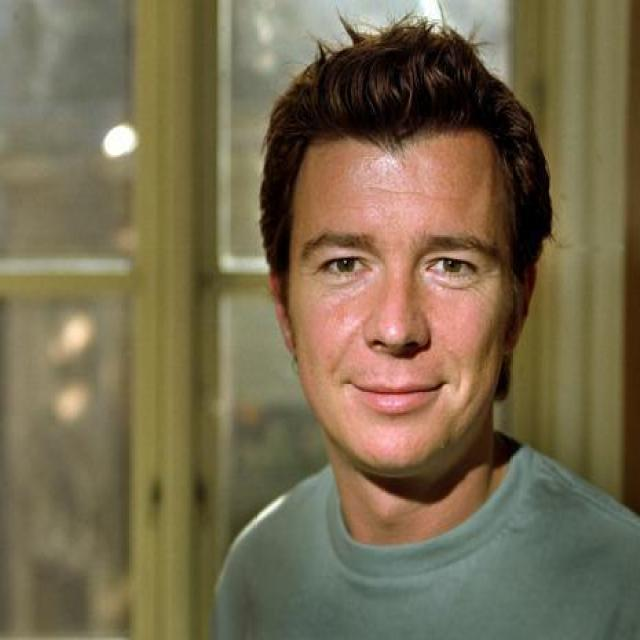0_rostro_limpio: (277, 98, 525, 486)
